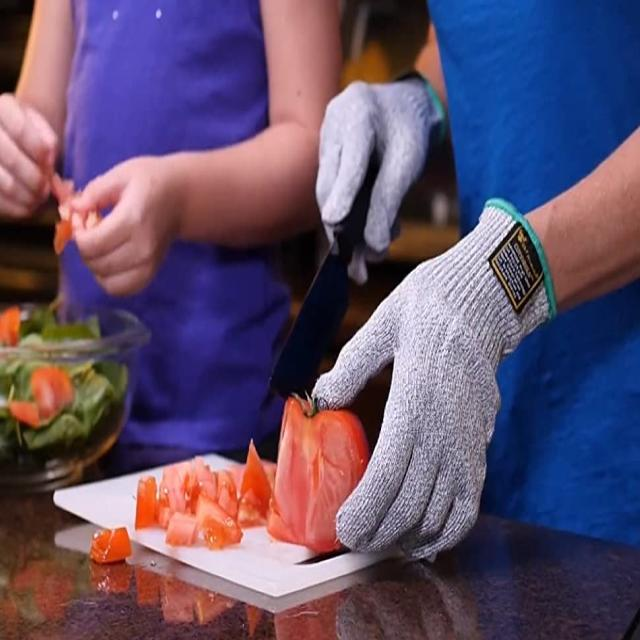gloves: (311, 196, 561, 566), (317, 70, 444, 284)
